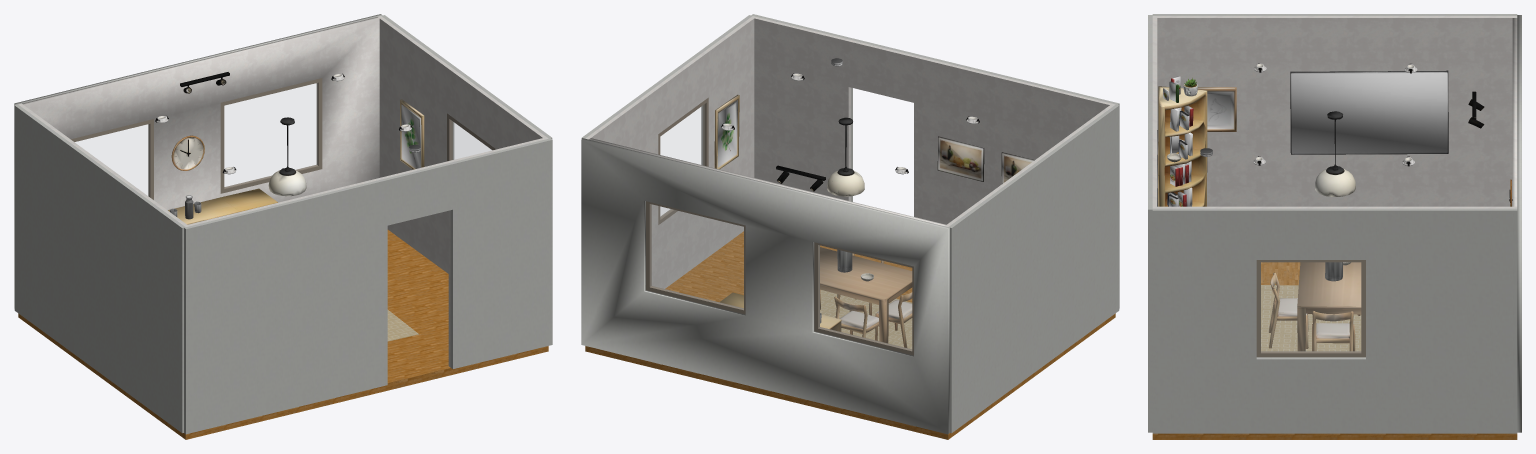
The model's file is scene_named.glb.
3 renders of one model, left to right at view 1: azimuth 30°, elevation 25°; view 2: azimuth 150°, elevation 25°; view 3: azimuth 270°, elevation 25°, orthographic. The views are drawn at different scales.
Parts seen in each view (by area): view 1: south_wall_exterior_dining_room/south_wall_exterior_dining_r, west_wall_exterior_dining_room/west_wall_exterior_dining_roo, north_wall_dining_room/north_wall_dining_room/geometry_0, east_wall_dining_room/east_wall_dining_room/geometry_0, floor_dining_room, window_2_dining_room/window_2_dining_room/glass, window_1_dining_room/window_1_dining_room/glass, window_2_dining_room/window_2_dining_room/frame, buffet_cabinet_0, south_wall_dining_room/south_wall_dining_room/geometry_0, botanical_print_0, north_wall_exterior_dining_room/north_wall_exterior_dining_r (+7 smaller); view 2: north_wall_exterior_dining_room/north_wall_exterior_dining_r, west_wall_exterior_dining_room/west_wall_exterior_dining_roo, south_wall_dining_room/south_wall_dining_room/geometry_0, east_wall_dining_room/east_wall_dining_room/geometry_0, window_2_dining_room/window_2_dining_room/glass, window_1_dining_room/window_1_dining_room/glass, floor_dining_room, dining_table_0, window_3_dining_room/window_3_dining_room/glass, print_0, rug_0, window_2_dining_room/window_2_dining_room/frame (+12 smaller); view 3: east_wall_exterior_dining_room/east_wall_exterior_dining_roo, west_wall_dining_room/west_wall_dining_room/geometry_0, mirror_0, window_3_dining_room/window_3_dining_room/glass, bookshelf_0, floor_dining_room, dining_table_0, rug_0, north_wall_exterior_dining_room/north_wall_exterior_dining_r, south_wall_exterior_dining_room/south_wall_exterior_dining_r, window_3_dining_room/window_3_dining_room/frame, drawing_0 (+7 smaller).
Boxes of the visible parts, x1=… form: south_wall_exterior_dining_room/south_wall_exterior_dining_r: x1=184, y1=138, x2=552, y2=434; west_wall_exterior_dining_room/west_wall_exterior_dining_roo: x1=14, y1=104, x2=185, y2=433; north_wall_dining_room/north_wall_dining_room/geometry_0: x1=22, y1=17, x2=379, y2=210; east_wall_dining_room/east_wall_dining_room/geometry_0: x1=378, y1=16, x2=548, y2=273; floor_dining_room: x1=18, y1=230, x2=548, y2=439; window_2_dining_room/window_2_dining_room/glass: x1=224, y1=83, x2=317, y2=187; window_1_dining_room/window_1_dining_room/glass: x1=75, y1=124, x2=149, y2=196; window_2_dining_room/window_2_dining_room/frame: x1=220, y1=78, x2=322, y2=193; buffet_cabinet_0: x1=168, y1=188, x2=277, y2=224; south_wall_dining_room/south_wall_dining_room/geometry_0: x1=187, y1=138, x2=544, y2=367; botanical_print_0: x1=400, y1=99, x2=424, y2=169; north_wall_exterior_dining_room/north_wall_exterior_dining_r: x1=14, y1=14, x2=382, y2=308; north_wall_exterior_dining_room/north_wall_exterior_dining_r: x1=581, y1=138, x2=949, y2=434; west_wall_exterior_dining_room/west_wall_exterior_dining_roo: x1=948, y1=104, x2=1119, y2=433; south_wall_dining_room/south_wall_dining_room/geometry_0: x1=754, y1=17, x2=1111, y2=224; east_wall_dining_room/east_wall_dining_room/geometry_0: x1=585, y1=16, x2=755, y2=288; window_2_dining_room/window_2_dining_room/glass: x1=650, y1=204, x2=743, y2=308; window_1_dining_room/window_1_dining_room/glass: x1=819, y1=245, x2=911, y2=349; floor_dining_room: x1=585, y1=231, x2=1115, y2=439; dining_table_0: x1=820, y1=247, x2=912, y2=343; window_3_dining_room/window_3_dining_room/glass: x1=660, y1=105, x2=704, y2=216; print_0: x1=937, y1=136, x2=984, y2=181; rug_0: x1=820, y1=290, x2=912, y2=349; window_2_dining_room/window_2_dining_room/frame: x1=646, y1=201, x2=745, y2=314; east_wall_exterior_dining_room/east_wall_exterior_dining_roo: x1=1152, y1=208, x2=1517, y2=433; west_wall_dining_room/west_wall_dining_room/geometry_0: x1=1152, y1=16, x2=1517, y2=206; mirror_0: x1=1290, y1=70, x2=1448, y2=154; window_3_dining_room/window_3_dining_room/glass: x1=1261, y1=262, x2=1360, y2=351; bookshelf_0: x1=1158, y1=86, x2=1207, y2=206; floor_dining_room: x1=1152, y1=262, x2=1517, y2=439; dining_table_0: x1=1297, y1=262, x2=1361, y2=351; rug_0: x1=1261, y1=285, x2=1361, y2=351; north_wall_exterior_dining_room/north_wall_exterior_dining_r: x1=1517, y1=15, x2=1521, y2=432; south_wall_exterior_dining_room/south_wall_exterior_dining_r: x1=1148, y1=15, x2=1152, y2=432; window_3_dining_room/window_3_dining_room/frame: x1=1256, y1=260, x2=1365, y2=357; drawing_0: x1=1197, y1=87, x2=1236, y2=131.
Bounding box in the file's own units: 5.1 × 2.8 × 4.1.
Materials: 31 (29 with a texture image).
